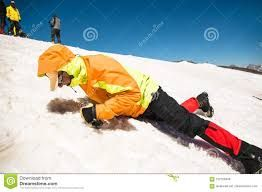fall: (23, 36, 262, 174)
